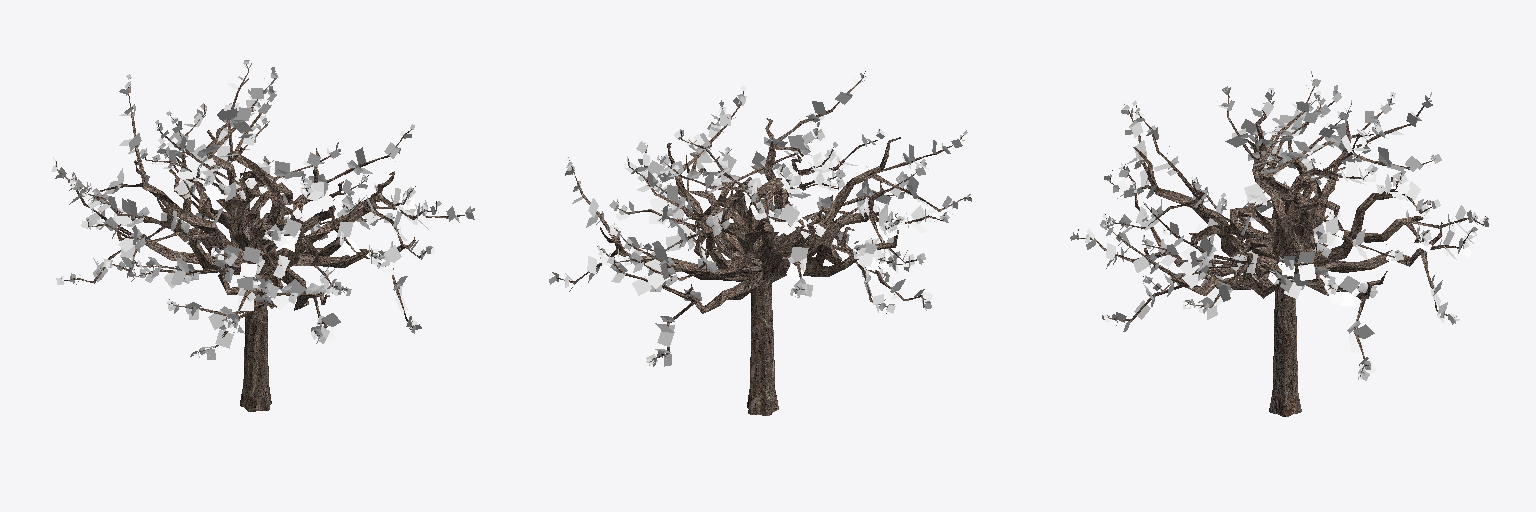
3 views of the same model, side by side, from view 1: azimuth 30°, elevation 25°; view 2: azimuth 150°, elevation 25°; view 3: azimuth 270°, elevation 25° (orthographic).
Parts seen in each view (by area): view 1: tree; view 2: tree; view 3: tree.
Part boxes in pixels (left/top/right/bottom): tree: left=51, top=60, right=474, bottom=411; tree: left=549, top=71, right=971, bottom=415; tree: left=1070, top=71, right=1489, bottom=416.
Bounding box in the file's own units: 207 × 167 × 209.
Materials: 2 (1 with a texture image).